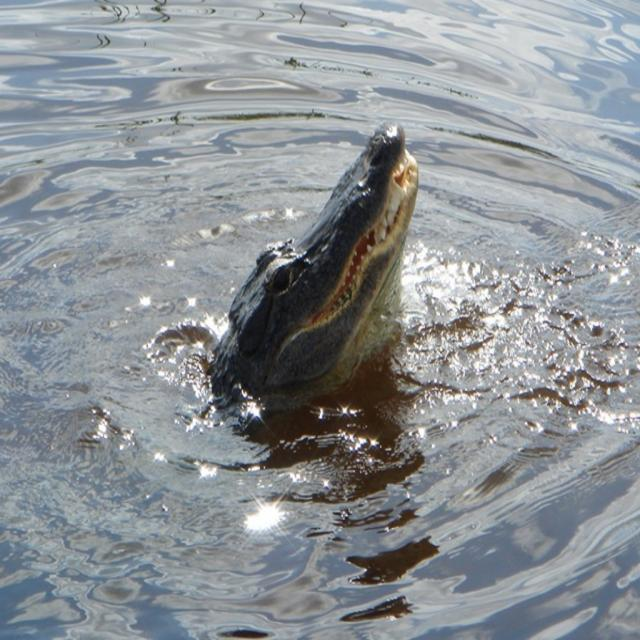crocodile: (174, 105, 449, 449)
